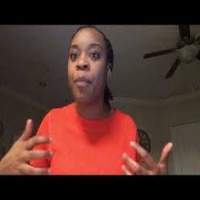ring: (21, 160, 53, 176), (120, 164, 134, 177)
